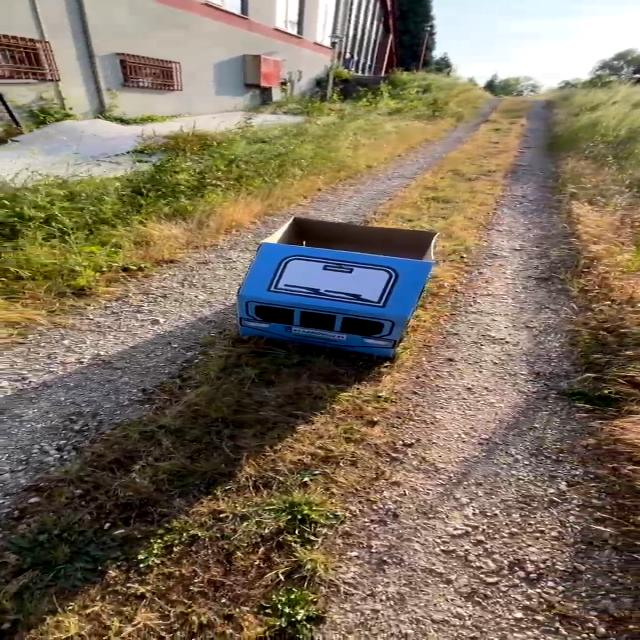blue_car: (171, 190, 474, 387)
